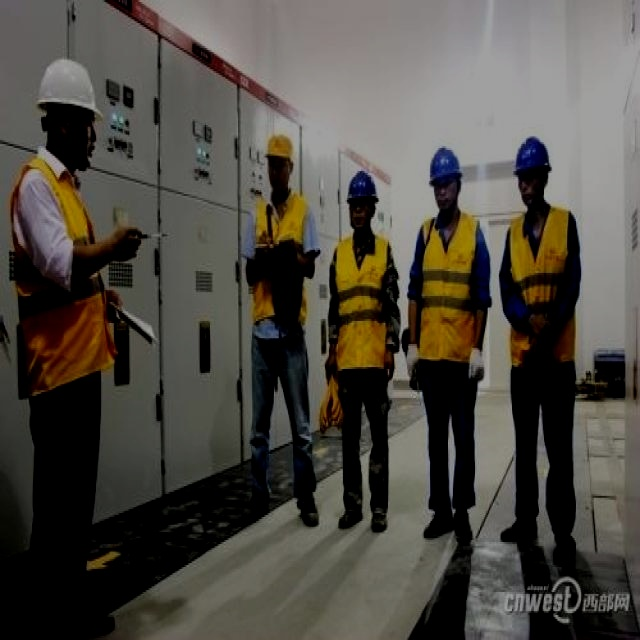Con_Chaleco: (504, 205, 577, 363), (415, 212, 483, 368), (330, 230, 390, 375)
